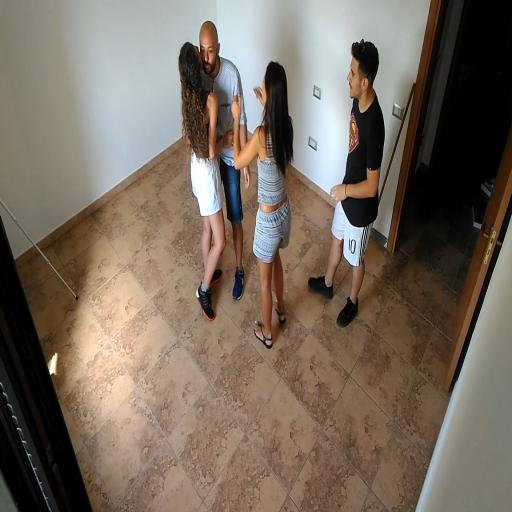nao-violencia: (158, 1, 254, 325)
